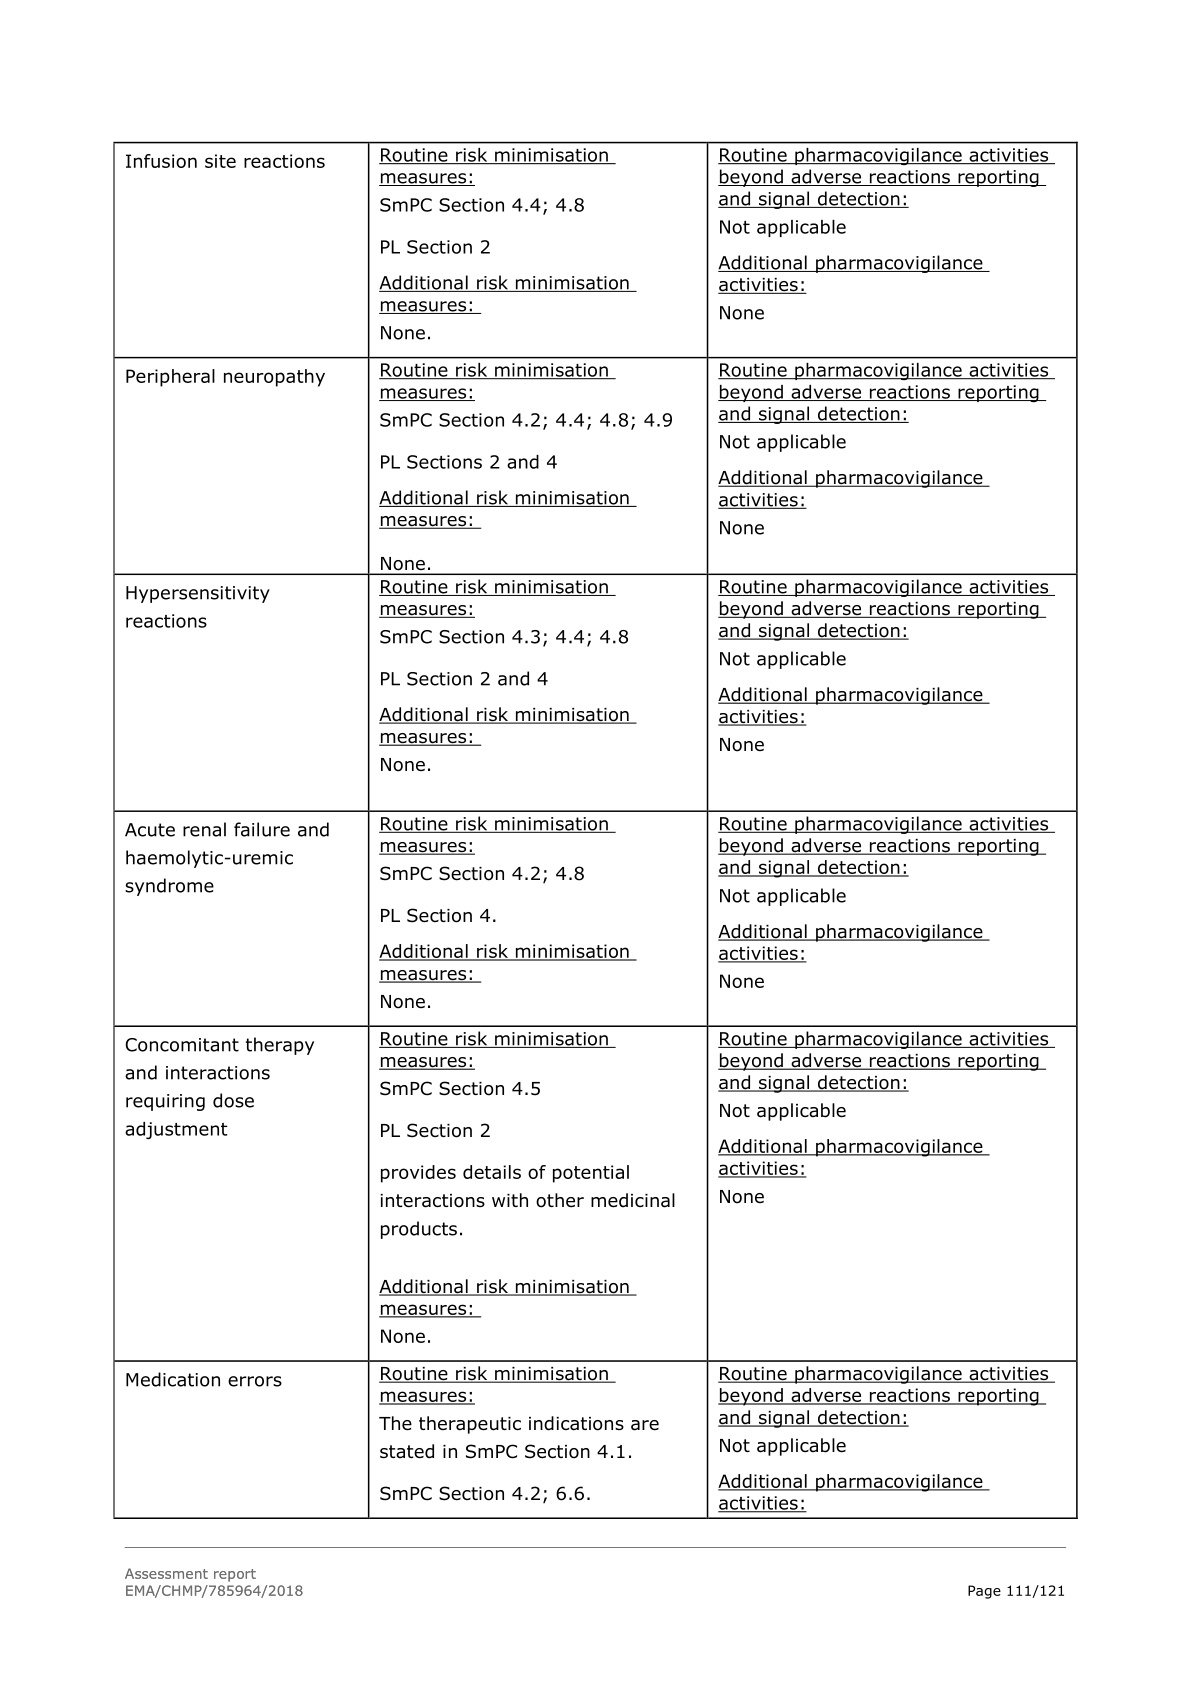full_lined: (112, 140, 1079, 1520)
